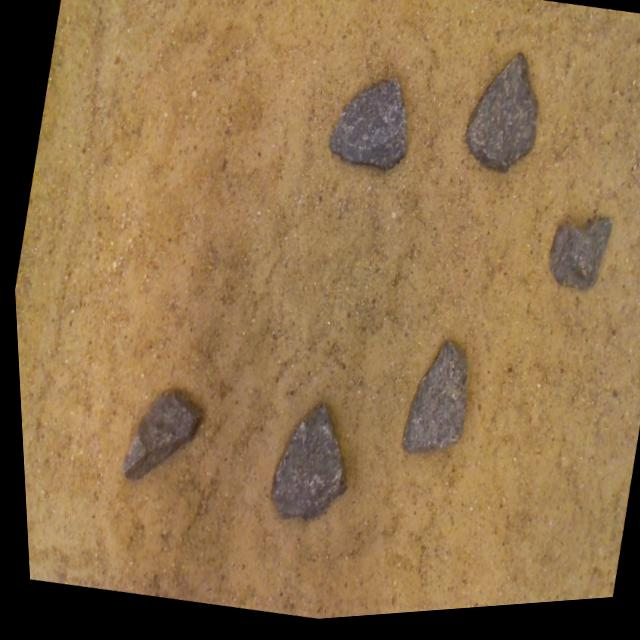rock: (463, 60, 535, 179), (266, 408, 339, 523), (397, 347, 462, 458), (327, 83, 405, 174), (118, 392, 197, 479), (545, 227, 608, 297)
